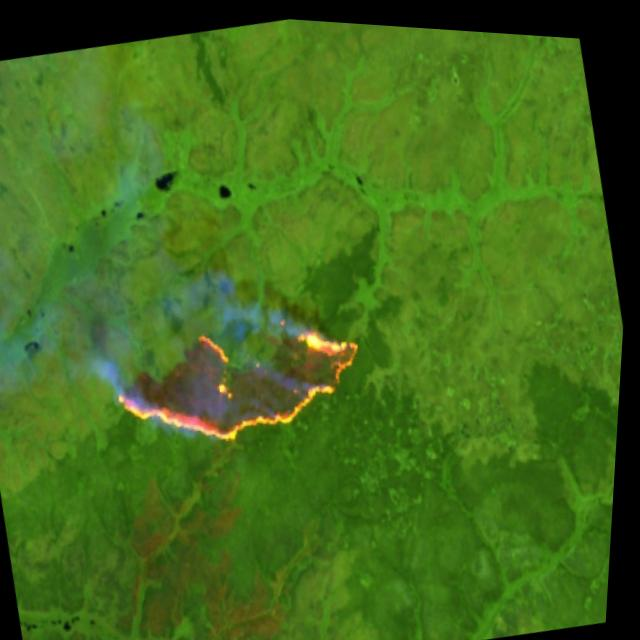fire: (101, 280, 386, 471)
